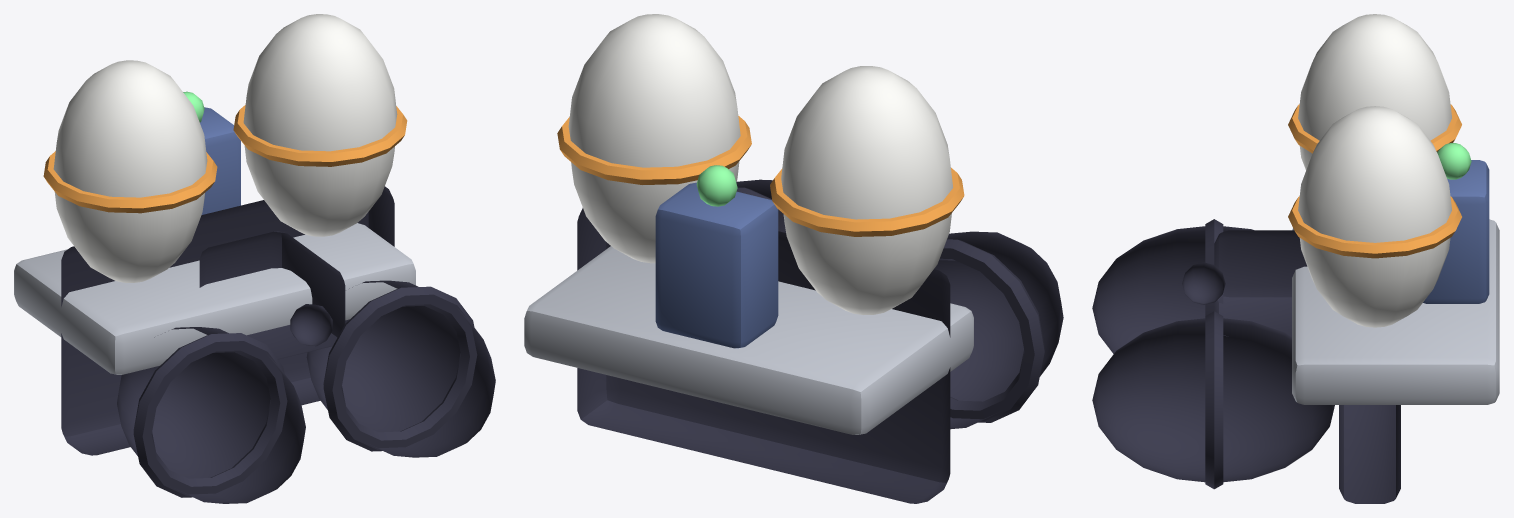
File: Generador_O2.fbx
3 views of the same model, side by side, from view 1: azimuth 30°, elevation 25°; view 2: azimuth 150°, elevation 25°; view 3: azimuth 270°, elevation 25° (orthographic). The views are drawn at different scales.
Parts seen in each view (by area): view 1: Gen_Base, Gen_Tanque0, Gen_Tanque1, Gen_Tanque0_Contorno, Gen_Tanque1_Contorno, Gen_Base_Contorno, Gen_Aro1_Contorno, Gen_Aro0_Contorno, Gen_Control_Contorno, Gen_Aro1, Gen_Aro0, Gen_Control (+1 smaller); view 2: Gen_Base, Gen_Tanque0, Gen_Base_Contorno, Gen_Tanque1, Gen_Control, Gen_Tanque0_Contorno, Gen_Aro0_Contorno, Gen_Aro0, Gen_Aro1, Gen_Luz; view 3: Gen_Tanque1_Contorno, Gen_Tanque1, Gen_Base, Gen_Tanque0, Gen_Tanque0_Contorno, Gen_Control_Contorno, Gen_Base_Contorno, Gen_Control, Gen_Aro1_Contorno, Gen_Aro1, Gen_Luz_Contorno, Gen_Aro0 (+2 smaller).
Part boxes in pixels (left/top/right/bottom): Gen_Base: left=14, top=223, right=415, bottom=374; Gen_Tanque0: left=53, top=60, right=207, bottom=282; Gen_Tanque1: left=243, top=14, right=397, bottom=236; Gen_Tanque0_Contorno: left=117, top=327, right=305, bottom=503; Gen_Tanque1_Contorno: left=306, top=280, right=495, bottom=457; Gen_Base_Contorno: left=61, top=186, right=394, bottom=455; Gen_Aro1_Contorno: left=323, top=286, right=477, bottom=451; Gen_Aro0_Contorno: left=133, top=333, right=287, bottom=497; Gen_Control_Contorno: left=199, top=231, right=345, bottom=359; Gen_Aro1: left=233, top=105, right=407, bottom=166; Gen_Aro0: left=43, top=151, right=217, bottom=213; Gen_Control: left=200, top=107, right=240, bottom=214; Gen_Base: left=524, top=246, right=973, bottom=434; Gen_Tanque0: left=781, top=66, right=953, bottom=314; Gen_Base_Contorno: left=577, top=208, right=950, bottom=503; Gen_Tanque1: left=568, top=14, right=740, bottom=263; Gen_Control: left=655, top=182, right=778, bottom=348; Gen_Tanque0_Contorno: left=934, top=231, right=1063, bottom=429; Gen_Aro0_Contorno: left=939, top=239, right=1044, bottom=422; Gen_Aro0: left=770, top=167, right=964, bottom=236; Gen_Aro1: left=557, top=116, right=751, bottom=184; Gen_Luz: left=696, top=165, right=737, bottom=206; Gen_Tanque1_Contorno: left=1092, top=318, right=1334, bottom=482; Gen_Tanque1: left=1298, top=106, right=1451, bottom=327; Gen_Base: left=1292, top=219, right=1499, bottom=404; Gen_Tanque0: left=1298, top=14, right=1451, bottom=170; Gen_Tanque0_Contorno: left=1092, top=226, right=1253, bottom=353; Gen_Control_Contorno: left=1214, top=230, right=1307, bottom=336; Gen_Base_Contorno: left=1339, top=405, right=1400, bottom=503; Gen_Control: left=1423, top=160, right=1489, bottom=303; Gen_Aro1_Contorno: left=1205, top=311, right=1223, bottom=489; Gen_Aro1: left=1288, top=196, right=1461, bottom=258; Gen_Luz_Contorno: left=1182, top=262, right=1225, bottom=304; Gen_Aro0: left=1288, top=104, right=1461, bottom=153.
Bounding box in the file's own units: 3.82 × 3.94 × 3.92.
